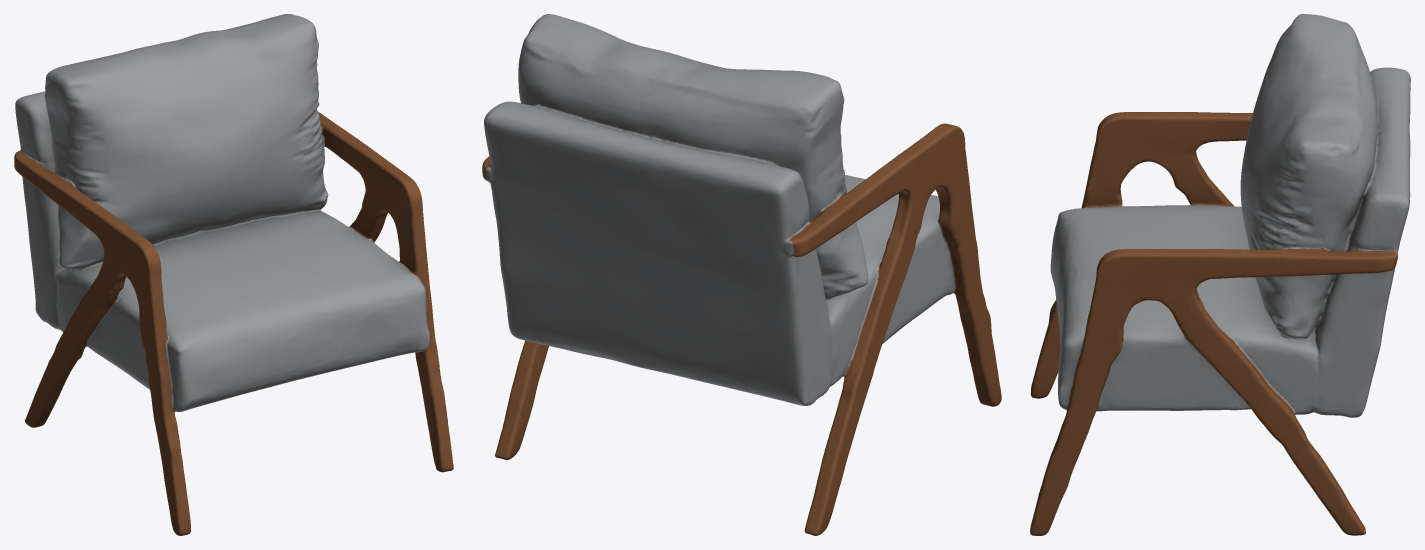
The model's file is topazio-072.glb.
3 renders of one model, left to right at view 1: azimuth 30°, elevation 25°; view 2: azimuth 150°, elevation 25°; view 3: azimuth 270°, elevation 25°, orthographic. The views are drawn at different scales.
Parts seen in each view (by area): view 1: Sofa; view 2: Sofa; view 3: Sofa.
Boxes of the visible parts, x1,y1,x2,y2 form: Sofa: (14, 14, 453, 535); Sofa: (482, 14, 1001, 535); Sofa: (1030, 14, 1410, 535).
Size of the model in its own units: 0.72 by 0.9 by 0.8.
